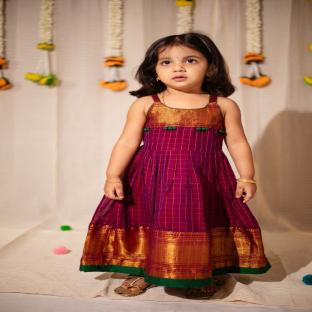Human: (80, 33, 270, 298)
